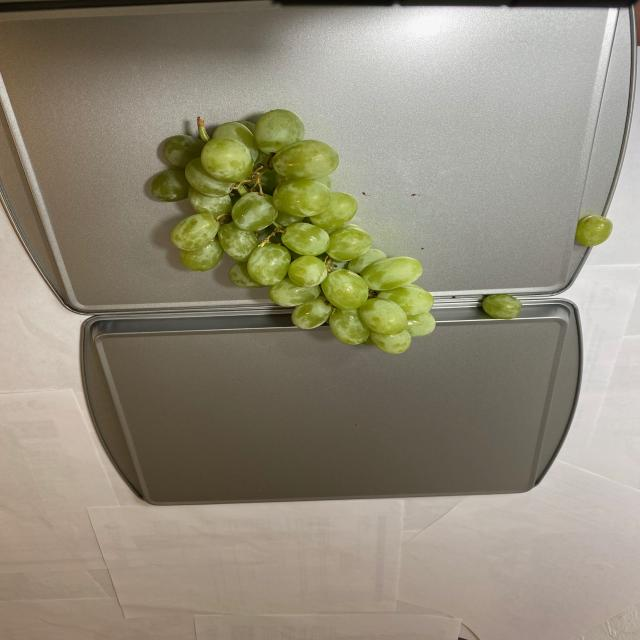grapes: (146, 110, 443, 349), (571, 214, 618, 250), (478, 294, 522, 320)
